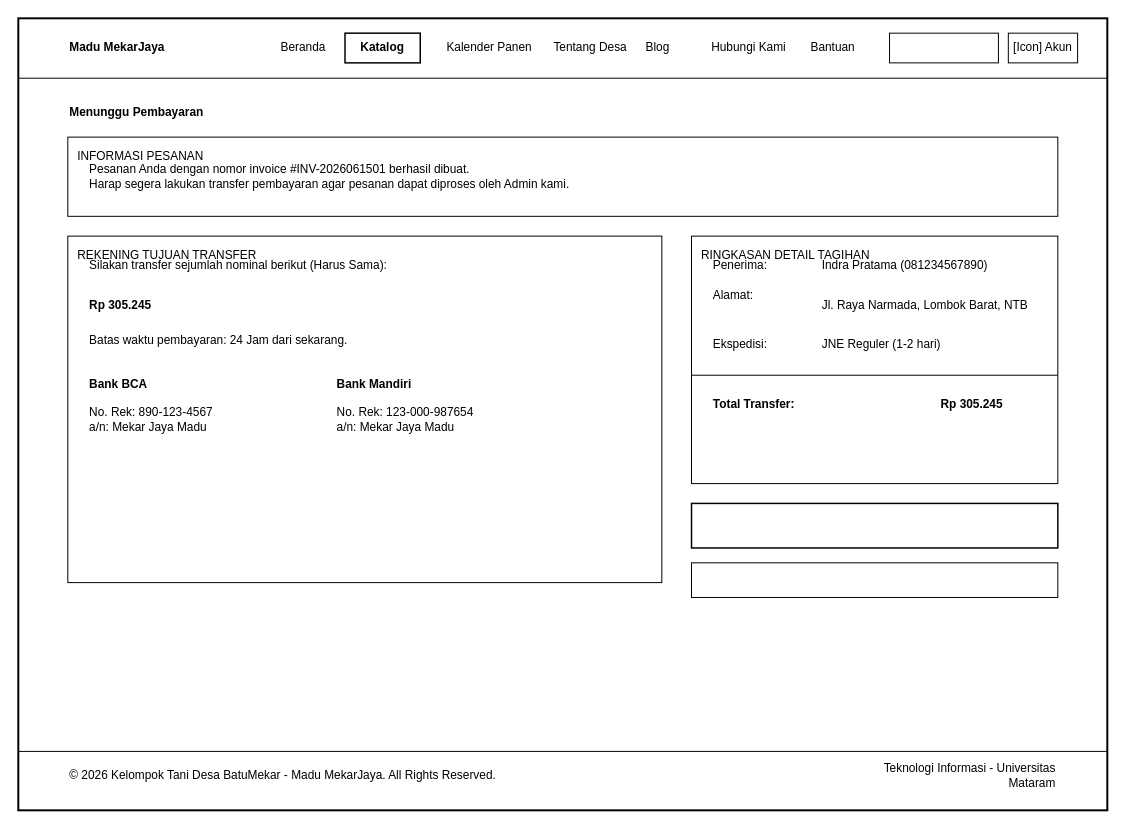
This 1125x828 diagram has some shape labels left out. The shapes that lost their labels are listed below. From the top down, each one's centre as x and y in pixels, then its label:
At pixel 943 47: "[Icon] Keranjang (2)".
At pixel 874 525: "Unggah Bukti Transfer Sekarang".
At pixel 874 579: "<- Kembali ke Dashboard Saya".
